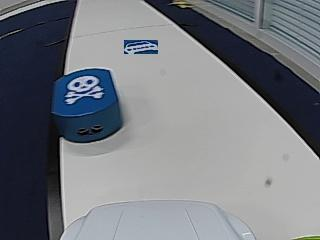danger: (64, 75, 101, 104)
